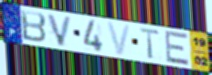4: (82, 19, 104, 53)
B: (19, 8, 48, 44)
E: (164, 29, 191, 67)
T: (138, 26, 161, 60)
V: (46, 13, 74, 48), (105, 21, 132, 57)
